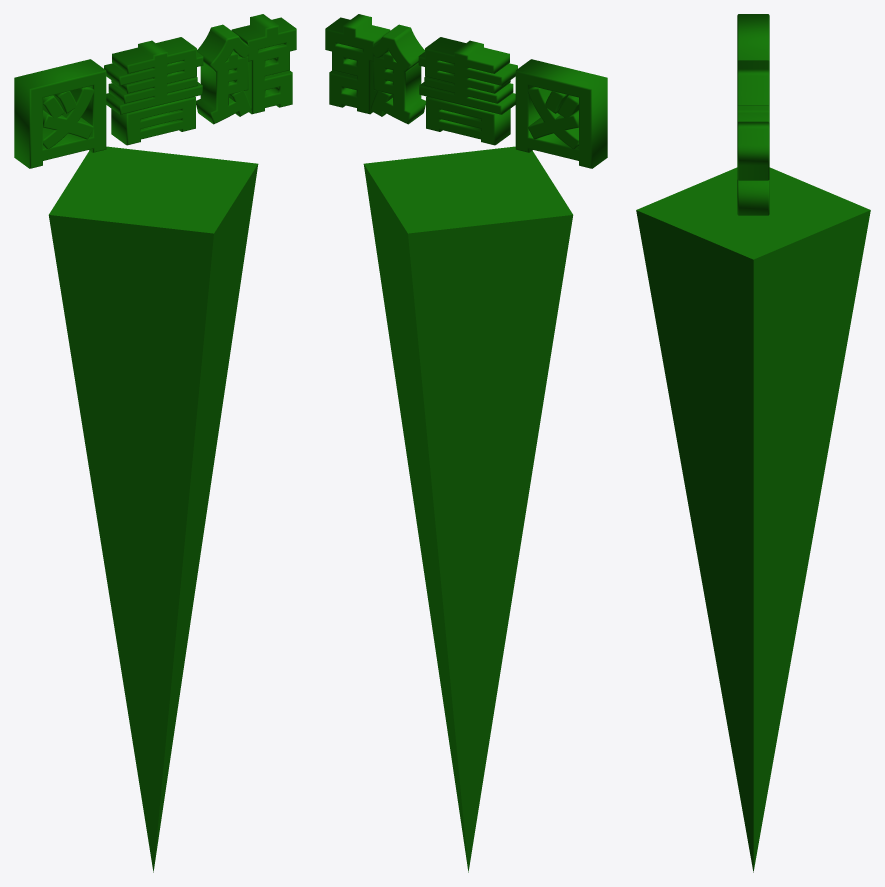
Rendered from Tosyokan.glb.
3 views of the same model, side by side, from view 1: azimuth 30°, elevation 25°; view 2: azimuth 150°, elevation 25°; view 3: azimuth 270°, elevation 25° (orthographic). The views are drawn at different scales.
Visible parts, largest first — view 1: Cone, Text.002; view 2: Cone, Text.002; view 3: Cone, Text.002.
Part boxes in pixels (x1=…): Cone: x1=48, y1=146, x2=258, y2=872; Text.002: x1=14, y1=14, x2=296, y2=168; Cone: x1=363, y1=146, x2=573, y2=872; Text.002: x1=325, y1=14, x2=607, y2=168; Cone: x1=636, y1=167, x2=870, y2=872; Text.002: x1=737, y1=14, x2=769, y2=215.
Size of the model in its own units: 2.04 by 6.04 by 1.6.
